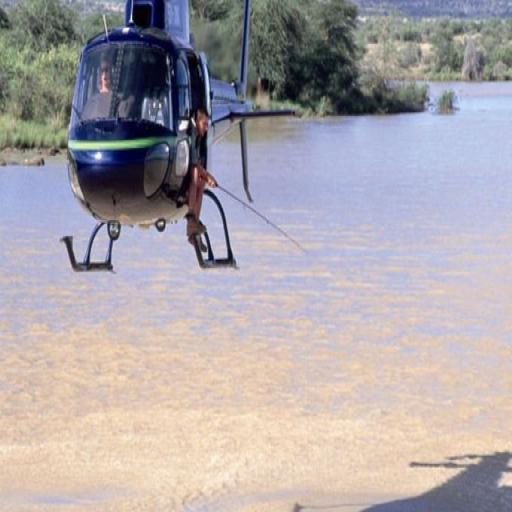helicopter: (63, 3, 291, 271)
